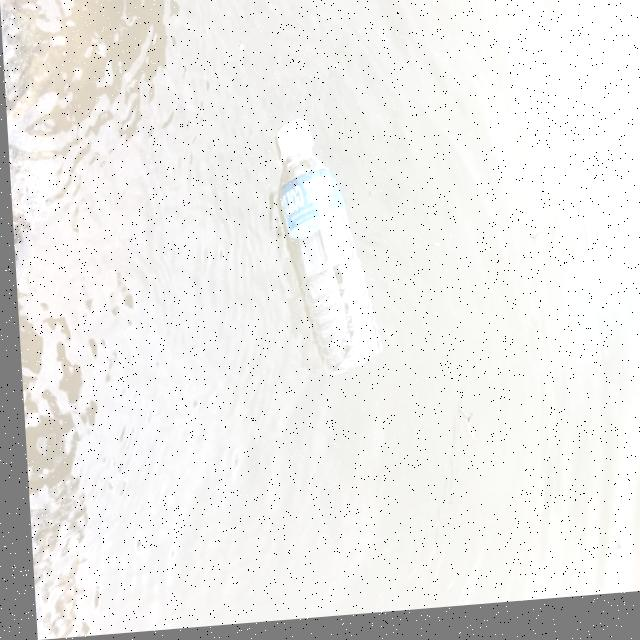leaf: (569, 208, 614, 270), (447, 404, 475, 459), (528, 227, 558, 259)
waterbottle: (246, 110, 395, 395)
